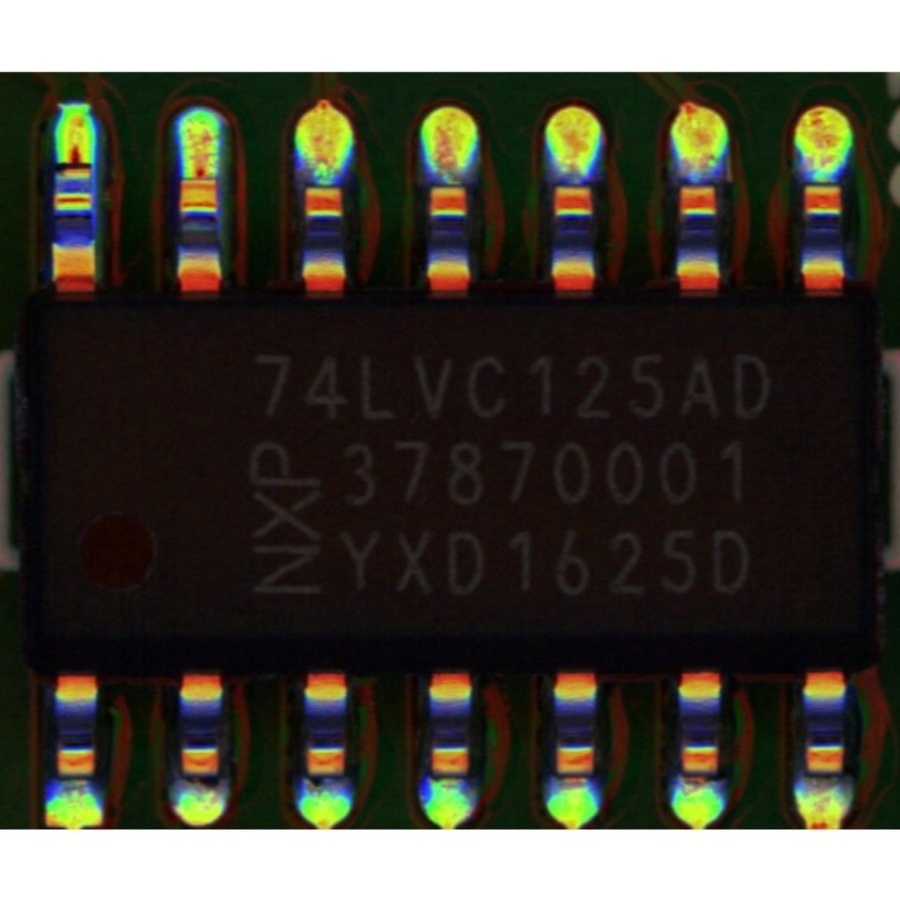Bad_podu: (61, 144, 88, 187), (191, 154, 213, 198)
